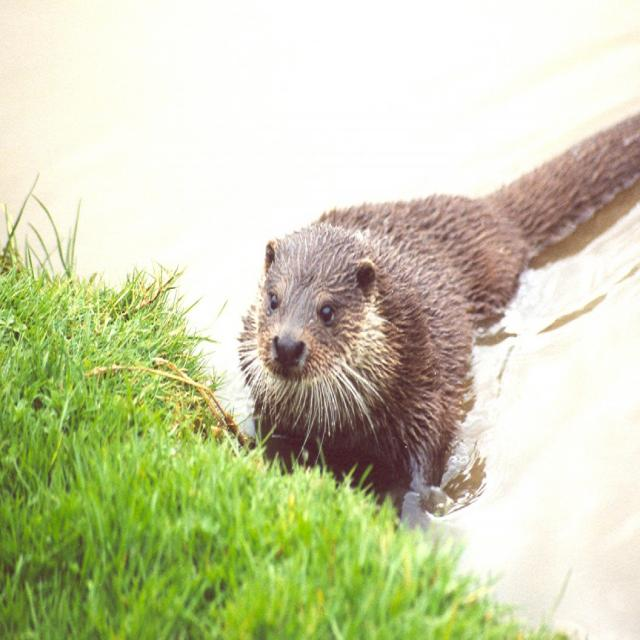otter: (239, 115, 640, 487)
